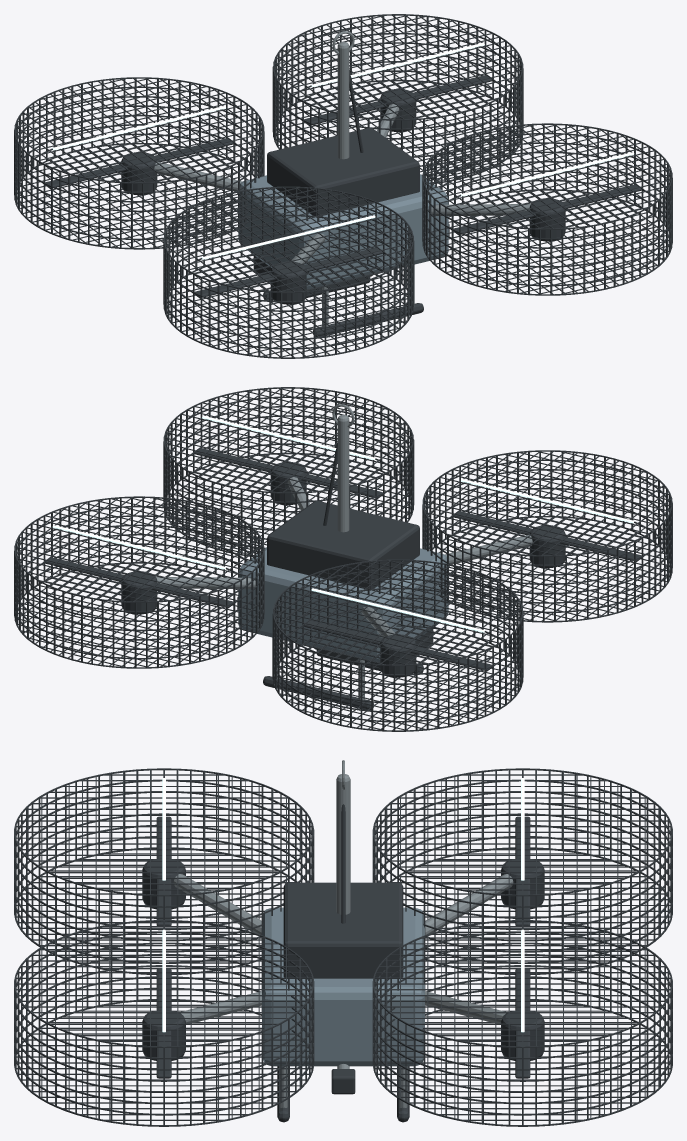
Rendered from robot-6-spec2026.glb.
3 views of the same model, one above another, from view 1: azimuth 30°, elevation 25°; view 2: azimuth 150°, elevation 25°; view 3: azimuth 270°, elevation 25° (orthographic). The views are drawn at different scales.
Visible parts, largest first — view 1: Chassis_RobotMatteGraphite, CentralAirframe, Chassis_RobotMatteAluminum, Chassis_TeamGlow, PropellerBlade, PropellerBlade.002, PropellerBlade.001, PropellerBlade.003; view 2: Chassis_RobotMatteGraphite, CentralAirframe, Chassis_RobotMatteAluminum, Chassis_TeamGlow, PropellerBlade.001, PropellerBlade.003, PropellerBlade, PropellerBlade.002; view 3: Chassis_RobotMatteGraphite, CentralAirframe, Chassis_RobotMatteAluminum, Chassis_TeamGlow, PropellerBlade.002, PropellerBlade.003, PropellerBlade, PropellerBlade.001, GunPitch_RobotMatteGraphite.
Boxes of the visible parts, <box> form: Chassis_RobotMatteGraphite: <box>14,14,672,358</box>; CentralAirframe: <box>238,174,448,289</box>; Chassis_RobotMatteAluminum: <box>154,31,530,327</box>; Chassis_TeamGlow: <box>52,43,634,259</box>; PropellerBlade: <box>194,247,383,297</box>; PropellerBlade.002: <box>453,184,641,234</box>; PropellerBlade.001: <box>45,138,233,188</box>; PropellerBlade.003: <box>304,75,492,125</box>; Chassis_RobotMatteGraphite: <box>14,387,672,731</box>; CentralAirframe: <box>238,547,448,662</box>; Chassis_RobotMatteAluminum: <box>156,404,532,700</box>; Chassis_TeamGlow: <box>52,416,634,632</box>; PropellerBlade.001: <box>303,620,492,670</box>; PropellerBlade.003: <box>45,557,233,607</box>; PropellerBlade: <box>453,511,641,561</box>; PropellerBlade.002: <box>194,448,382,498</box>; Chassis_RobotMatteGraphite: <box>14,768,672,1126</box>; CentralAirframe: <box>262,907,424,1066</box>; Chassis_RobotMatteAluminum: <box>173,760,513,1107</box>; Chassis_TeamGlow: <box>162,778,524,1032</box>; PropellerBlade.002: <box>156,968,171,1078</box>; PropellerBlade.003: <box>515,968,530,1078</box>; PropellerBlade: <box>156,816,171,925</box>; PropellerBlade.001: <box>515,816,530,925</box>; GunPitch_RobotMatteGraphite: <box>331,1069,355,1094</box>.
Size of the model in its own units: 1.21 by 0.6715 by 1.21.
